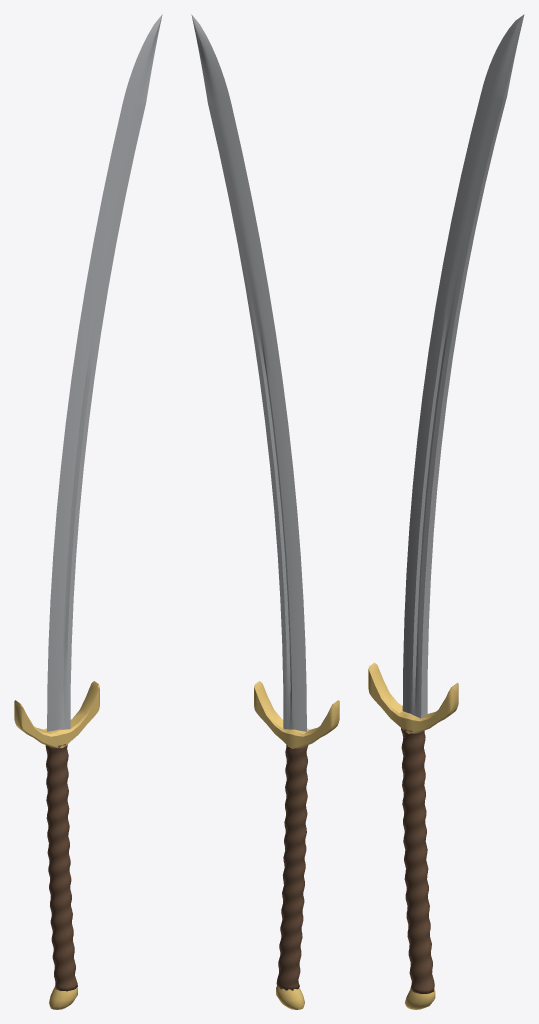
The model's file is elven-curve-blade.glb.
3 renders of one model, left to right at view 1: azimuth 30°, elevation 25°; view 2: azimuth 150°, elevation 25°; view 3: azimuth 330°, elevation 25°, orthographic. The views are drawn at different scales.
Parts seen in each view (by area): view 1: elven-curve-blade; view 2: elven-curve-blade; view 3: elven-curve-blade.
Boxes of the visible parts, x1,y1,x2,y2 form: elven-curve-blade: [14, 14, 162, 1009]; elven-curve-blade: [191, 14, 339, 1009]; elven-curve-blade: [368, 14, 524, 1009].
Bounding box in the file's own units: 0.5006 × 3.17 × 0.0697.
